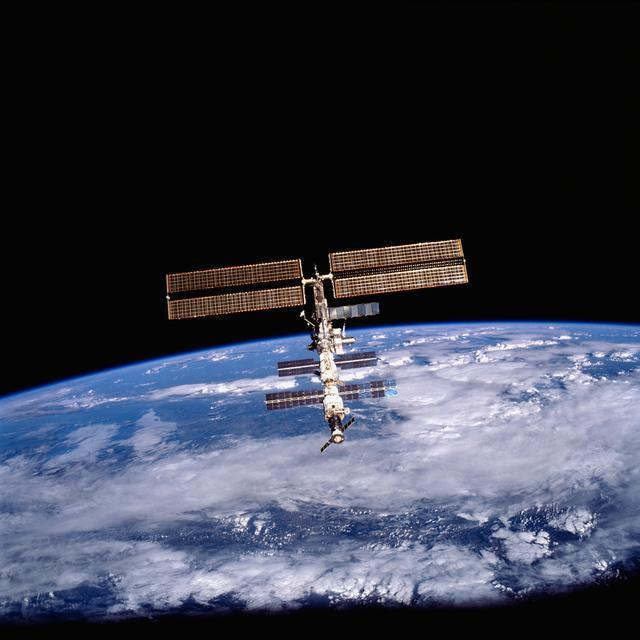satellite: (166, 240, 468, 451)
